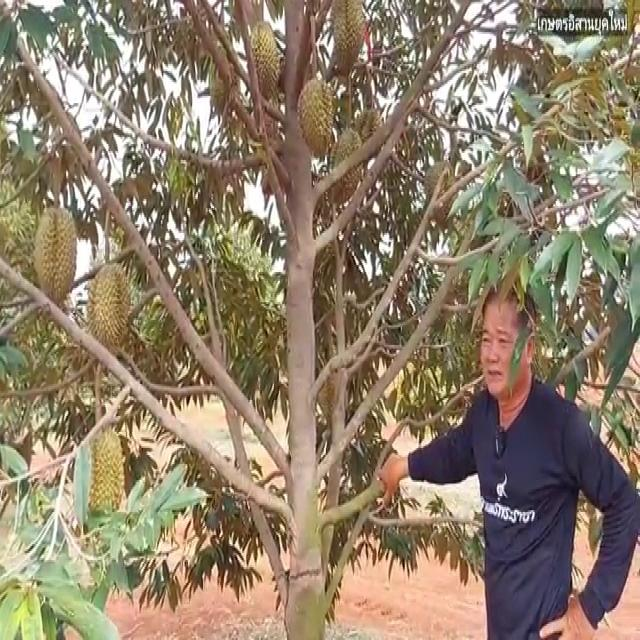durian: (28, 198, 80, 308), (87, 258, 133, 366), (81, 417, 127, 521), (295, 69, 336, 162), (324, 0, 369, 81), (328, 119, 364, 211), (245, 18, 282, 102), (420, 155, 458, 234)
